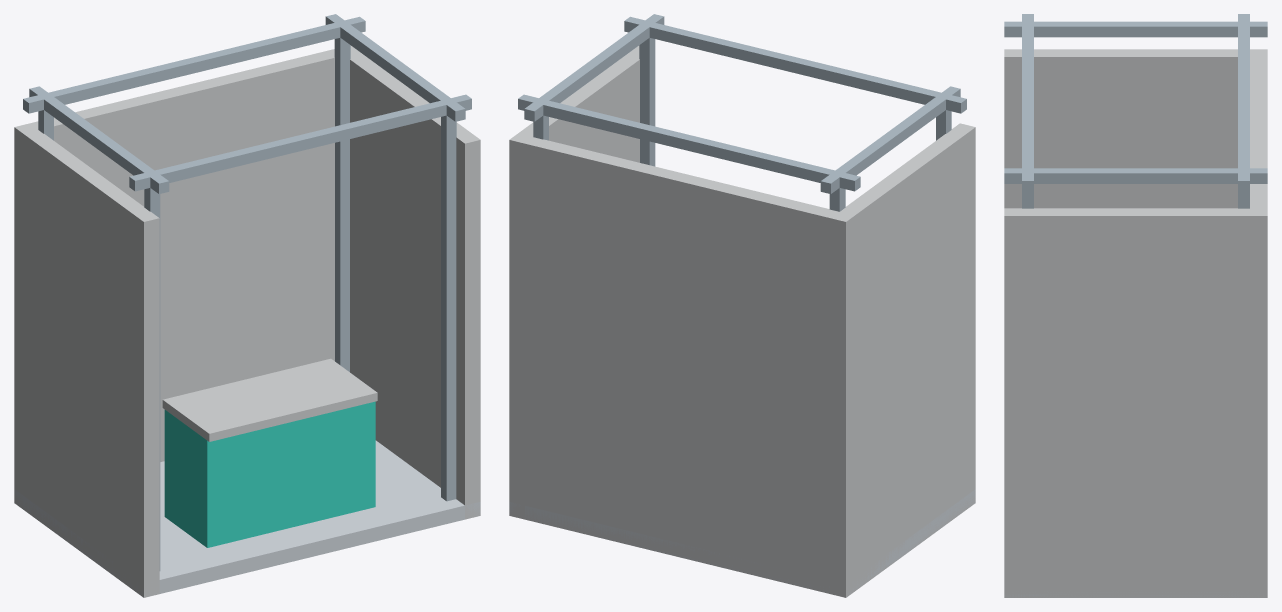
3 renders of one model, left to right at view 1: azimuth 30°, elevation 25°; view 2: azimuth 150°, elevation 25°; view 3: azimuth 270°, elevation 25°, orthographic.
Parts seen in each view (by area): view 1: Exhibition Booth Concept; view 2: Exhibition Booth Concept; view 3: Exhibition Booth Concept.
Boxes of the visible parts, x1,y1,x2,y2 form: Exhibition Booth Concept: (14, 14, 480, 597); Exhibition Booth Concept: (509, 14, 975, 597); Exhibition Booth Concept: (1004, 14, 1267, 597).
Size of the model in its own units: 3 by 3.49 by 2.
